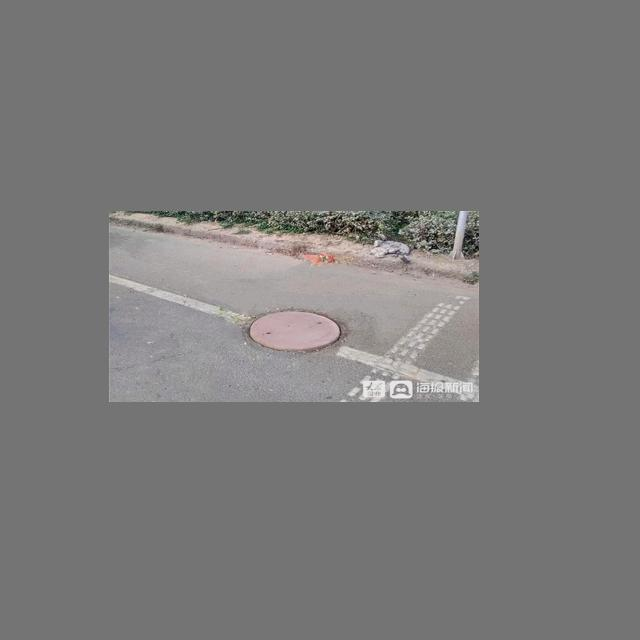good: (238, 304, 358, 356)
